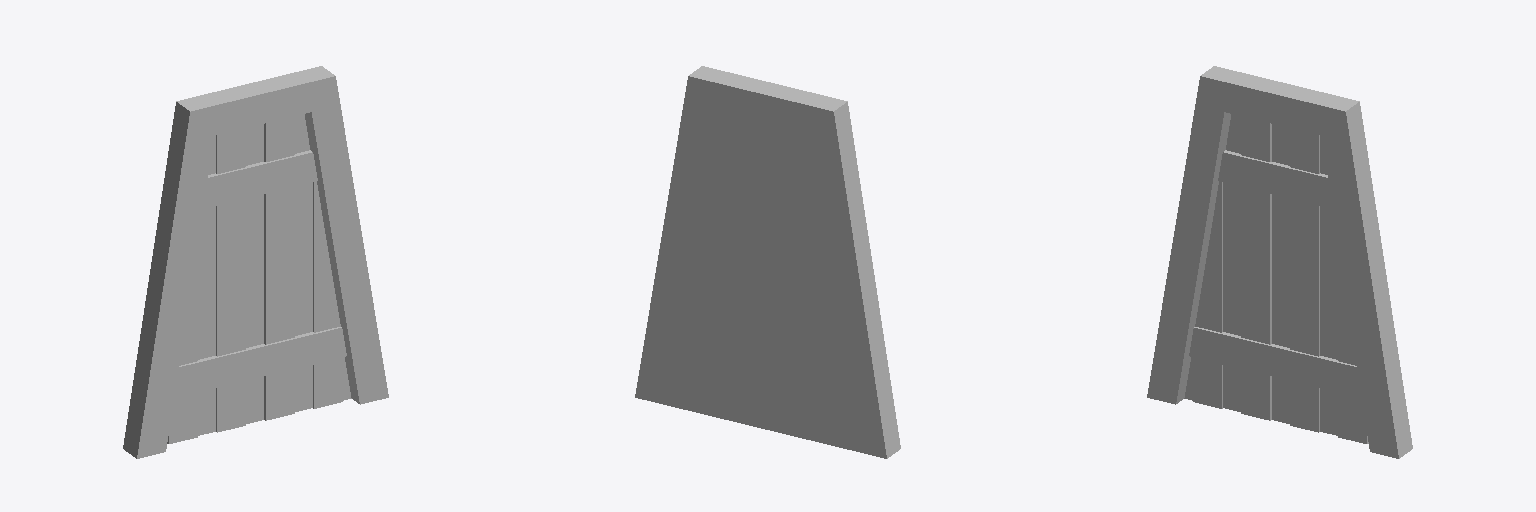
The model's file is Door1.obj.
3 views of the same model, side by side, from view 1: azimuth 30°, elevation 25°; view 2: azimuth 150°, elevation 25°; view 3: azimuth 330°, elevation 25° (orthographic).
Size of the model in its own units: 0.52 by 0.6592 by 0.05.